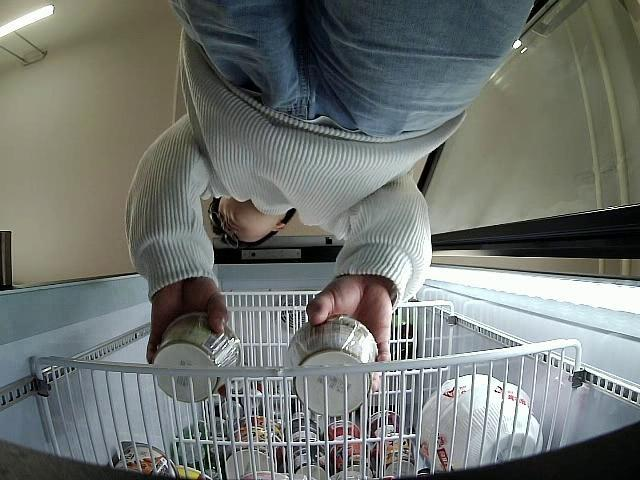04_chapagetti_S: (289, 315, 380, 417), (152, 315, 242, 403)
